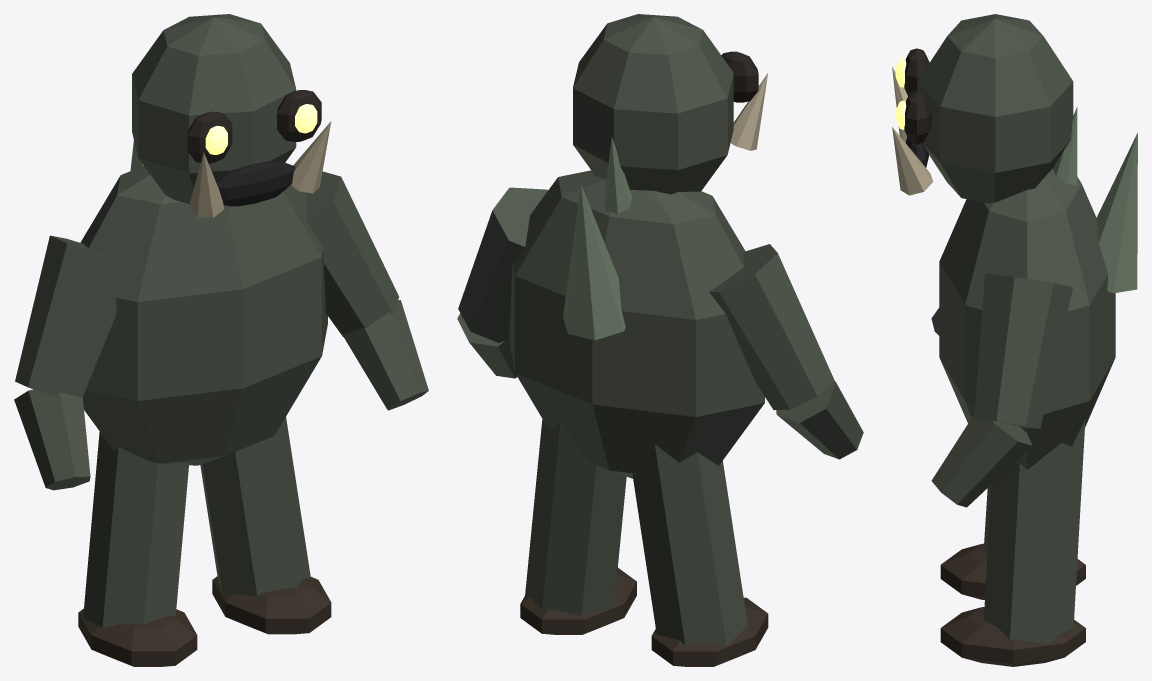
File: fauna-brine_troll.glb
3 views of the same model, side by side, from view 1: azimuth 30°, elevation 25°; view 2: azimuth 150°, elevation 25°; view 3: azimuth 270°, elevation 25° (orthographic). The views are drawn at different scales.
Parts seen in each view (by area): view 1: Fauna_brine_troll; view 2: Fauna_brine_troll; view 3: Fauna_brine_troll.
Part boxes in pixels (x1=…): Fauna_brine_troll: x1=14, y1=14, x2=428, y2=666; Fauna_brine_troll: x1=457, y1=14, x2=863, y2=666; Fauna_brine_troll: x1=892, y1=14, x2=1137, y2=666.
Size of the model in its own units: 1.18 by 1.88 by 0.69.
